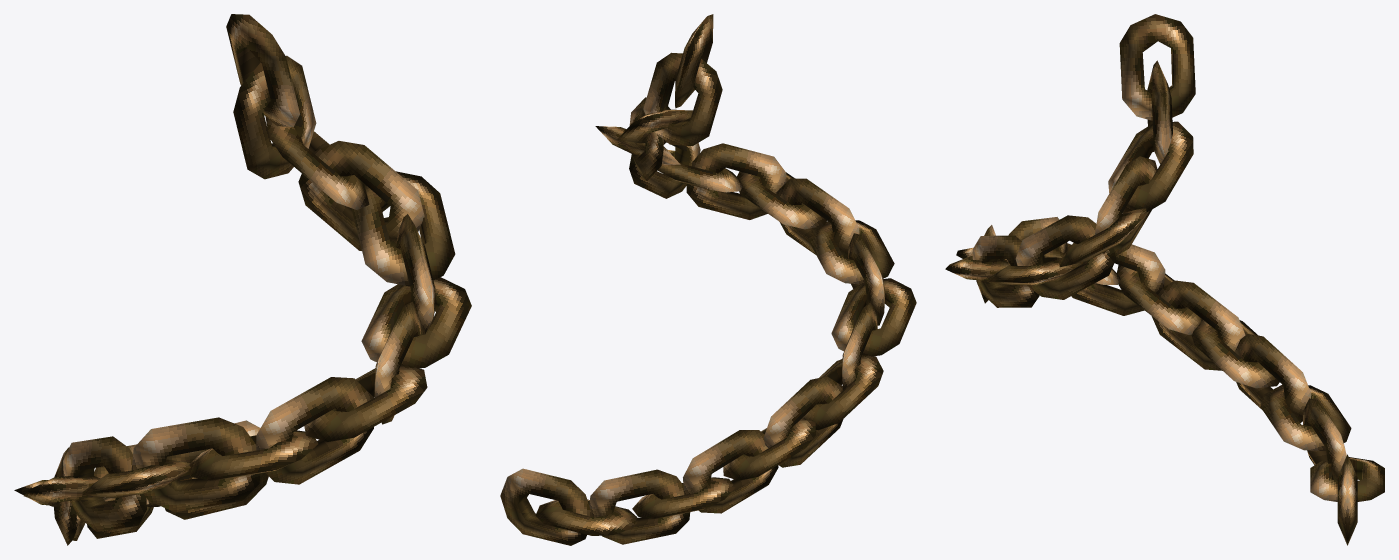
The model's file is LONE_MOUNT_CHAIN.fbx.
3 renders of one model, left to right at view 1: azimuth 30°, elevation 25°; view 2: azimuth 150°, elevation 25°; view 3: azimuth 270°, elevation 25°, orthographic. The views are drawn at different scales.
Visible parts, largest first — view 1: LONE_MOUNT_CHAIN; view 2: LONE_MOUNT_CHAIN; view 3: LONE_MOUNT_CHAIN.
Boxes of the visible parts, box(x1,y1,x2,y2) form: LONE_MOUNT_CHAIN: box(14, 14, 471, 545); LONE_MOUNT_CHAIN: box(500, 14, 916, 545); LONE_MOUNT_CHAIN: box(945, 14, 1384, 545).
Size of the model in its own units: 6163 by 9242 by 7577.
Materials: 1 (1 with a texture image).
